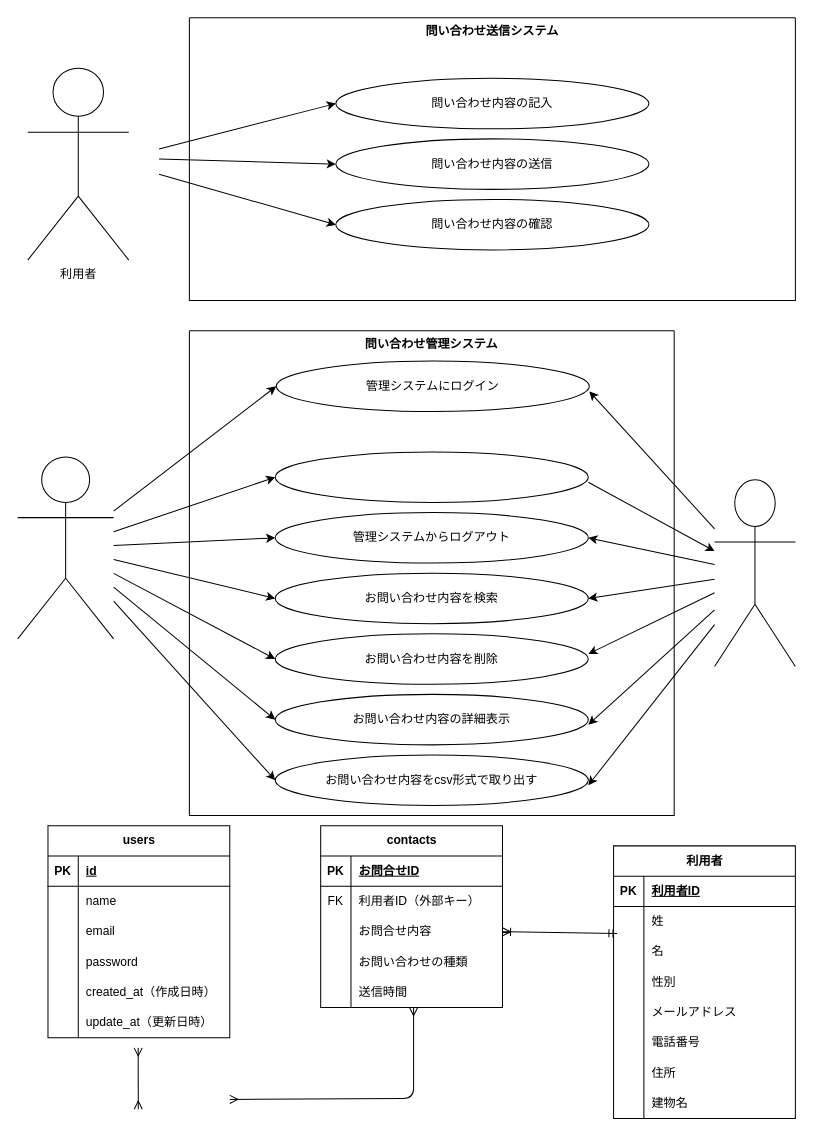
Image size: 813x1136. Some labels were removed from this diagram. Here are the shapes that lost their labels. From the top down, the centre of each, then its label:
At [431,476]: "新規ユーザーの作成・登録".
At [65,547]: "管理者".
At [754,573]: "新規管理者".
